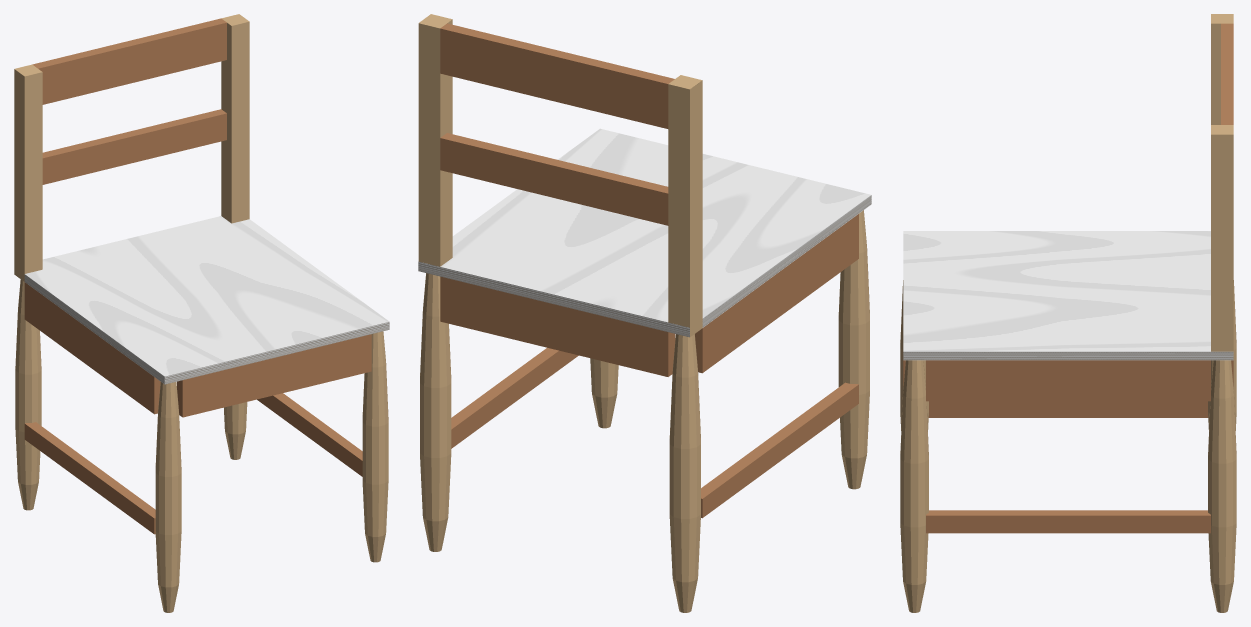
File: CAL-DCH-std.glb
3 views of the same model, side by side, from view 1: azimuth 30°, elevation 25°; view 2: azimuth 150°, elevation 25°; view 3: azimuth 270°, elevation 25° (orthographic). The views are drawn at different scales.
Visible parts, largest first — view 1: seat:sheet:eyJtIjoicGx5Iiwic2lkZSI6ImZhY2UiLCJzZWVkIjo2LCJ2Z, leg-bl:pbr, back-top:pbr, rail-f:pbr, leg-br:pbr, back-mid:pbr, leg-fl:pbr, rail-l:pbr, leg-fr:pbr, stretcher-l:pbr, stretcher-r:pbr, seat:sheet:eyJtIjoicGx5Iiwic2lkZSI6ImVkZ2UtZW5kIiwic2VlZCI6N (+1 smaller); view 2: seat:sheet:eyJtIjoicGx5Iiwic2lkZSI6ImZhY2UiLCJzZWVkIjo2LCJ2Z, leg-bl:pbr, leg-br:pbr, back-top:pbr, rail-b:pbr, back-mid:pbr, rail-l:pbr, leg-fl:pbr, stretcher-l:pbr, stretcher-r:pbr, seat:sheet:eyJtIjoicGx5Iiwic2lkZSI6ImVkZ2UtZW5kIiwic2VlZCI6N, seat:sheet:eyJtIjoicGx5Iiwic2lkZSI6ImVkZ2UtbG9uZyIsInNlZWQiO (+1 smaller); view 3: seat:sheet:eyJtIjoicGx5Iiwic2lkZSI6ImZhY2UiLCJzZWVkIjo2LCJ2Z, rail-r:pbr, leg-br:pbr, stretcher-r:pbr, leg-fr:pbr, stretcher-l:pbr, seat:sheet:eyJtIjoicGx5Iiwic2lkZSI6ImVkZ2UtbG9uZyIsInNlZWQiO, leg-bl:pbr, back-top:pbr, leg-fl:pbr.
Boxes of the visible parts, bbox=[...] form: seat:sheet:eyJtIjoicGx5Iiwic2lkZSI6ImZhY2UiLCJzZWVkIjo2LCJ2Z: bbox=[25, 216, 389, 376]; leg-bl:pbr: bbox=[14, 64, 42, 510]; back-top:pbr: bbox=[32, 18, 226, 104]; rail-f:pbr: bbox=[177, 334, 371, 417]; leg-br:pbr: bbox=[221, 14, 249, 459]; back-mid:pbr: bbox=[42, 109, 226, 184]; leg-fl:pbr: bbox=[155, 382, 181, 612]; rail-l:pbr: bbox=[24, 282, 160, 414]; leg-fr:pbr: bbox=[362, 331, 388, 562]; stretcher-l:pbr: bbox=[24, 422, 155, 534]; stretcher-r:pbr: bbox=[257, 393, 362, 476]; seat:sheet:eyJtIjoicGx5Iiwic2lkZSI6ImVkZ2UtZW5kIiwic2VlZCI6N: bbox=[164, 322, 389, 384]; seat:sheet:eyJtIjoicGx5Iiwic2lkZSI6ImZhY2UiLCJzZWVkIjo2LCJ2Z: bbox=[440, 128, 870, 322]; leg-bl:pbr: bbox=[668, 75, 702, 612]; leg-br:pbr: bbox=[418, 14, 452, 551]; back-top:pbr: bbox=[440, 23, 674, 128]; rail-b:pbr: bbox=[440, 276, 675, 376]; back-mid:pbr: bbox=[440, 133, 668, 225]; rail-l:pbr: bbox=[695, 214, 858, 373]; leg-fl:pbr: bbox=[838, 210, 869, 489]; stretcher-l:pbr: bbox=[701, 382, 858, 518]; stretcher-r:pbr: bbox=[451, 347, 578, 448]; seat:sheet:eyJtIjoicGx5Iiwic2lkZSI6ImVkZ2UtZW5kIiwic2VlZCI6N: bbox=[418, 261, 689, 337]; seat:sheet:eyJtIjoicGx5Iiwic2lkZSI6ImVkZ2UtbG9uZyIsInNlZWQiO: bbox=[702, 195, 871, 327]; seat:sheet:eyJtIjoicGx5Iiwic2lkZSI6ImZhY2UiLCJzZWVkIjo2LCJ2Z: bbox=[903, 231, 1210, 351]; rail-r:pbr: bbox=[926, 360, 1210, 401]; leg-br:pbr: bbox=[1208, 125, 1236, 612]; stretcher-r:pbr: bbox=[926, 510, 1210, 533]; leg-fr:pbr: bbox=[900, 360, 928, 612]; stretcher-l:pbr: bbox=[928, 401, 1208, 417]; seat:sheet:eyJtIjoicGx5Iiwic2lkZSI6ImVkZ2UtbG9uZyIsInNlZWQiO: bbox=[903, 351, 1233, 360]; leg-bl:pbr: bbox=[1208, 14, 1236, 430]; back-top:pbr: bbox=[1221, 23, 1233, 124]; leg-fl:pbr: bbox=[900, 280, 928, 430].
Bounding box in the file's own units: 0.45 × 0.82 × 0.52.
15 materials, 3 textured.
